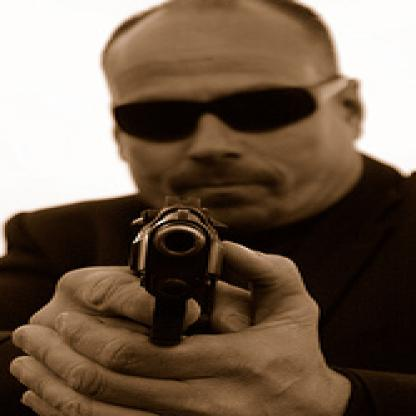gun: (88, 185, 246, 366)
